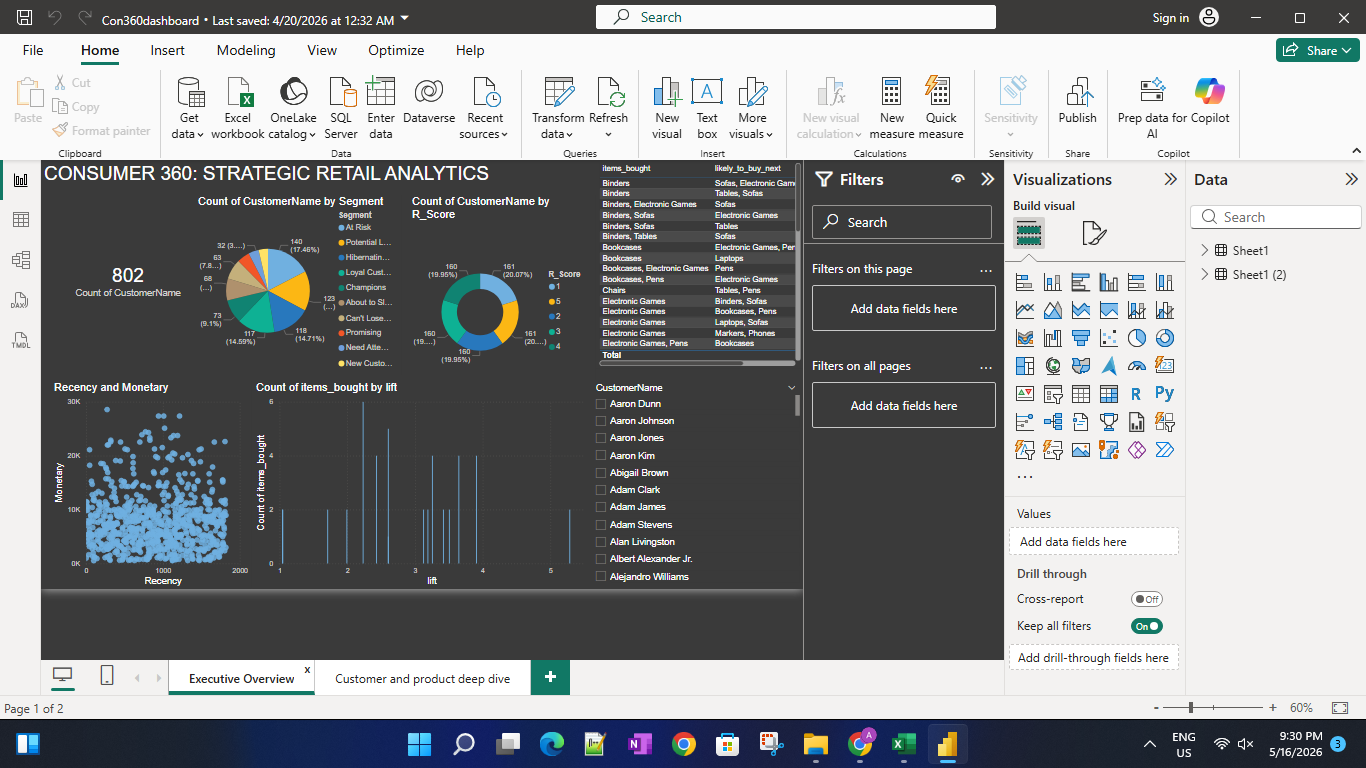

The page's visual inventory and layout, read from the dashboard file:
{"tool":"powerbi","page":{"name":"Executive Overview","canvas":[1280,720],"ordinal":0},"visuals":[{"type":"donutChart","fields":{"Category":["Sheet1.R_Score"],"Y":["CountNonNull(Sheet1.CustomerName)"]},"box":[618.9,59,312.9,351.3],"z":0},{"type":"scatterChart","fields":{"X":["Sheet1.Recency"],"Y":["Sheet1.Monetary"]},"box":[16.5,371.9,336.2,348.5],"z":1000},{"type":"tableEx","fields":{"Values":["Sheet1 (2).items_bought","Sheet1 (2).likely_to_buy_next","Sum(Sheet1 (2).lift)"]},"box":[931.7,0,348.5,351.3],"z":2000},{"type":"clusteredColumnChart","fields":{"Y":["CountNonNull(Sheet1 (2).items_bought)"],"Category":["Sheet1 (2).lift"]},"box":[356.8,371.9,565.4,348.5],"z":3000},{"type":"card","fields":{"Values":["CountNonNull(Sheet1.CustomerName)"]},"box":[0,50.8,292.3,300.5],"z":4000},{"type":"slicer","fields":{"Values":["Sheet1.CustomerName"]},"box":[918.6,370,361.4,350],"z":5000},{"type":"textbox","box":[0,0,801.4,46.7],"z":6000},{"type":"pieChart","fields":{"Category":["Sheet1.Segment"],"Y":["CountNonNull(Sheet1.CustomerName)"]},"box":[259.3,59,347.2,300.5],"z":7000}]}

Visuals, with their boxes on the page's 1280x720 design canvas (x1, y1, x2, y2). These are canvas units, not pixel positions in the 1366x768 screenshot, which may show the page scaled, cropped or inside an application window:
donutChart - Sheet1.R_Score x CountNonNull(Sheet1.CustomerName): [left=619, top=59, right=932, bottom=410]
scatterChart - Sheet1.Recency x Sheet1.Monetary: [left=16, top=372, right=353, bottom=720]
tableEx - Sheet1 (2).items_bought x Sheet1 (2).likely_to_buy_next: [left=932, top=0, right=1280, bottom=351]
clusteredColumnChart - CountNonNull(Sheet1 (2).items_bought) x Sheet1 (2).lift: [left=357, top=372, right=922, bottom=720]
card - CountNonNull(Sheet1.CustomerName): [left=0, top=51, right=292, bottom=351]
slicer - Sheet1.CustomerName: [left=919, top=370, right=1280, bottom=720]
textbox: [left=0, top=0, right=801, bottom=47]
pieChart - Sheet1.Segment x CountNonNull(Sheet1.CustomerName): [left=259, top=59, right=606, bottom=360]
